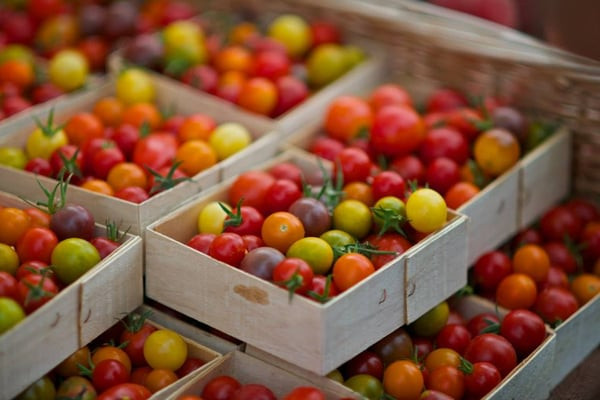steak: (342, 195, 600, 396), (182, 160, 455, 300), (309, 83, 556, 209), (1, 90, 254, 204), (112, 9, 368, 118), (0, 196, 126, 331), (473, 196, 600, 327), (19, 323, 220, 396)
